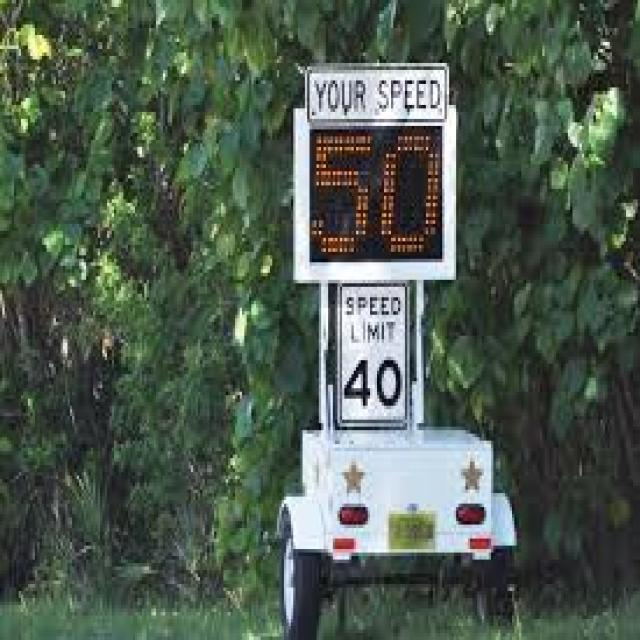speedLimit40: (340, 291, 407, 421)
